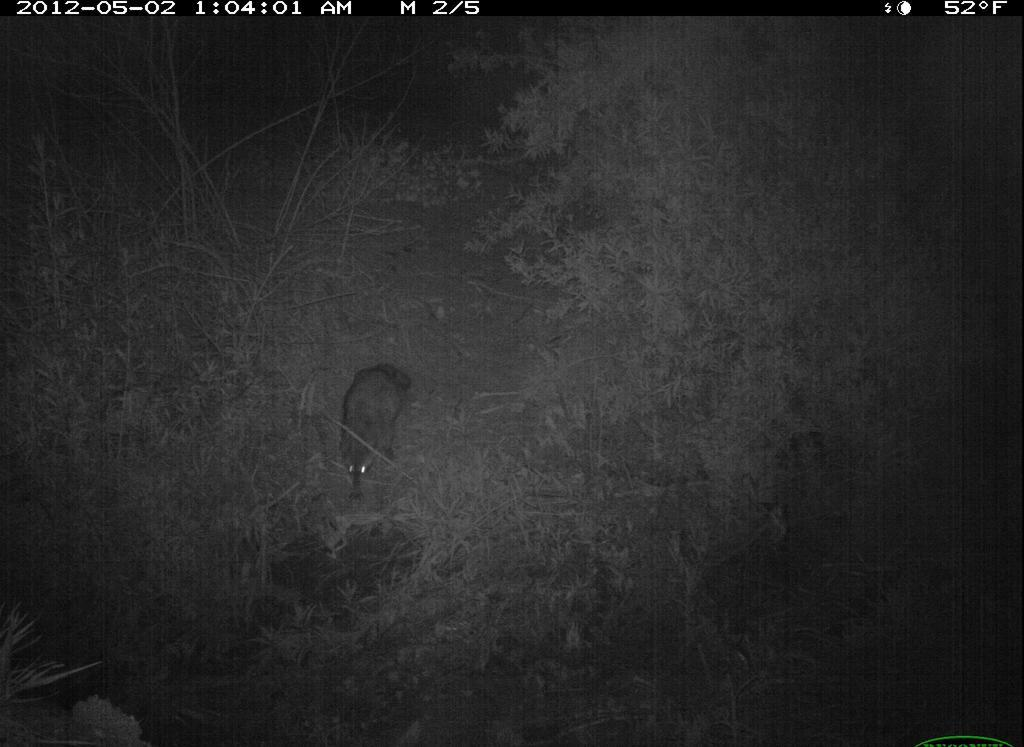raccoon: (332, 358, 417, 501)
